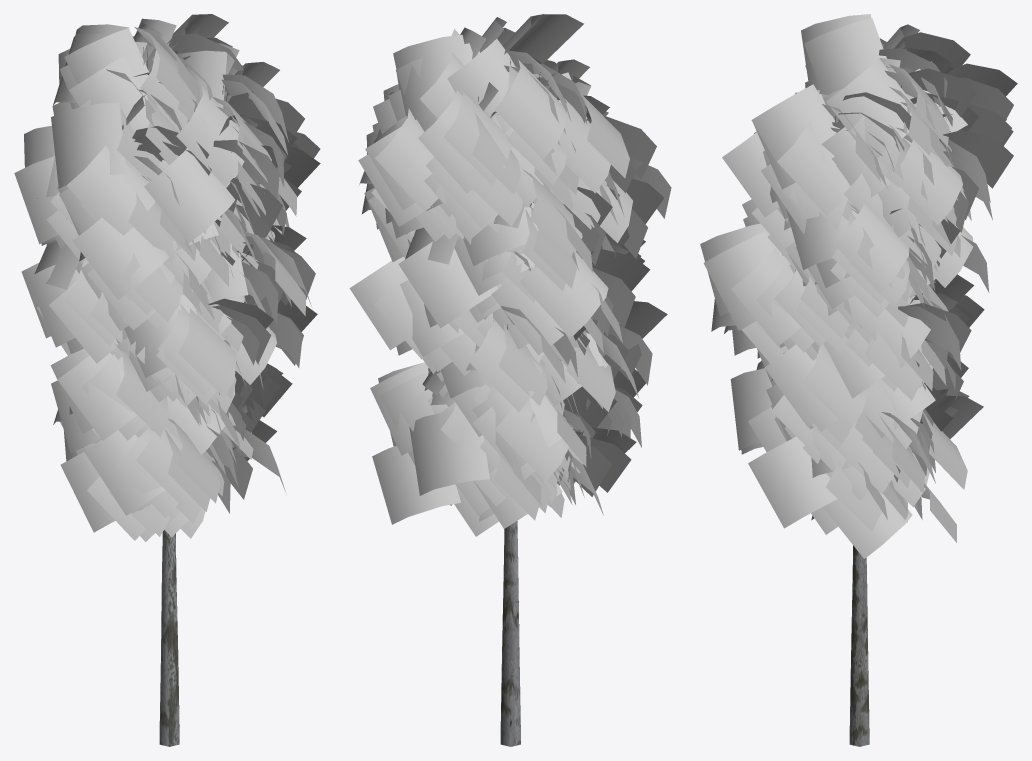
File: Tree3.fbx
The picture shows the model from 3 angles, left to right: view 1: azimuth 30°, elevation 25°; view 2: azimuth 150°, elevation 25°; view 3: azimuth 270°, elevation 25°; orthographic projection. The views are drawn at different scales.
Visible parts, largest first — view 1: leaves3, tree3; view 2: leaves3, tree3; view 3: leaves3, tree3.
Part boxes in pixels (<box>): leaves3: <box>14,14,320,541</box>; tree3: <box>143,47,250,746</box>; leaves3: <box>349,14,671,536</box>; tree3: <box>478,58,540,746</box>; leaves3: <box>700,14,1017,558</box>; tree3: <box>835,84,929,746</box>.
Bounding box in the file's own units: 375 × 951 × 383.
